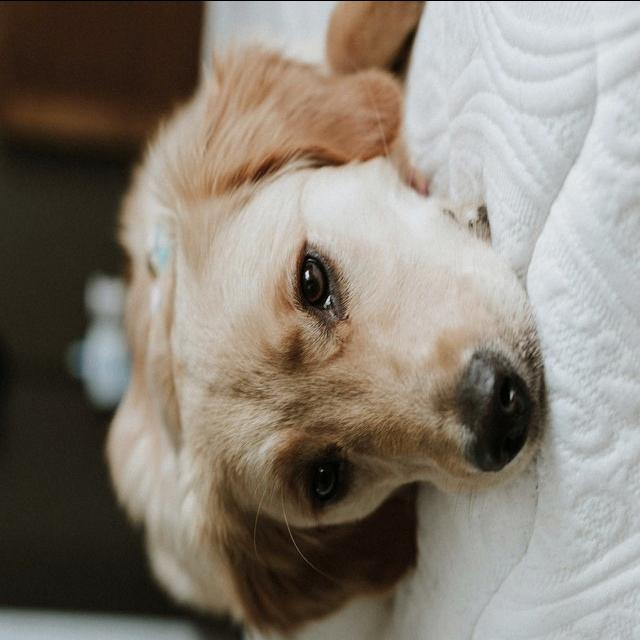retriever: (103, 0, 548, 638)
